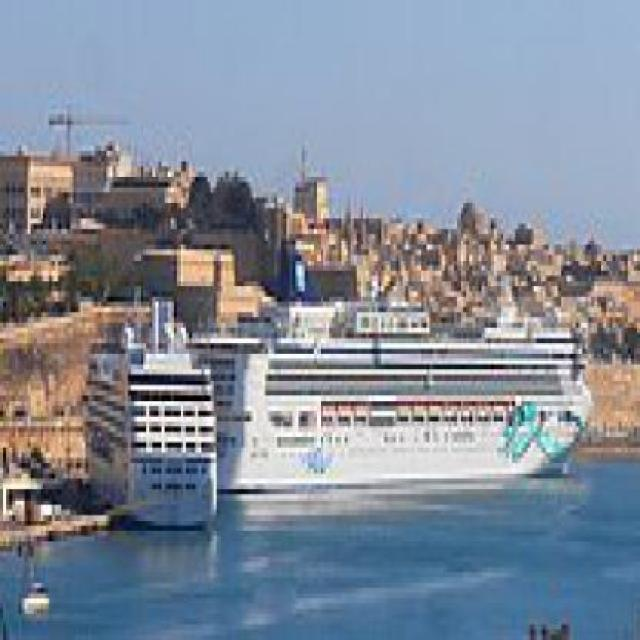cruise: (180, 276, 605, 501), (68, 282, 226, 542)
